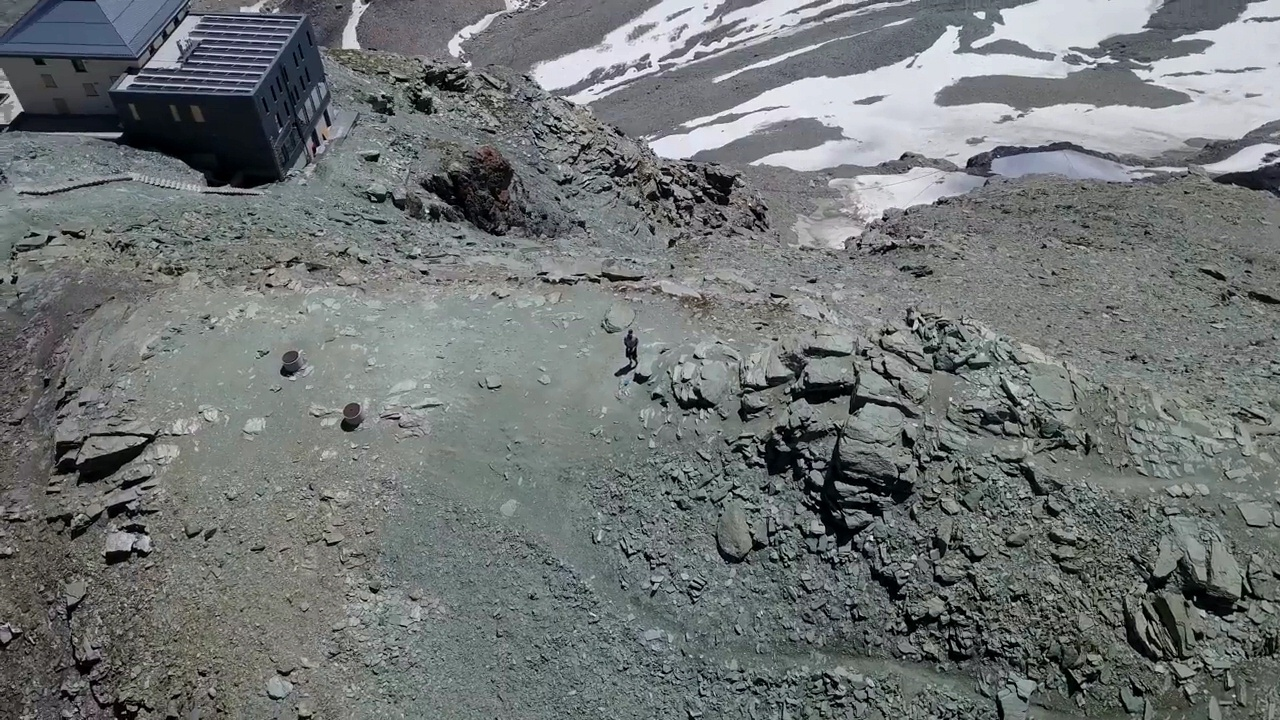insan: (620, 327, 643, 367)
